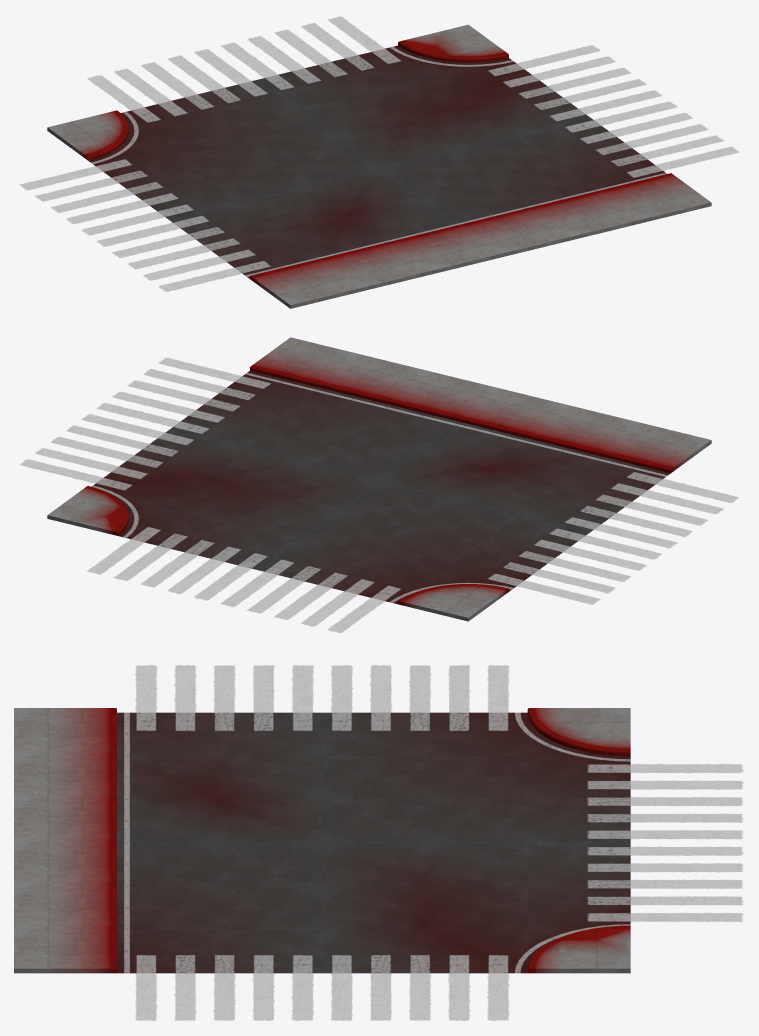
Rendered from street_tintersection.glb.
3 views of the same model, one above another, from view 1: azimuth 30°, elevation 25°; view 2: azimuth 150°, elevation 25°; view 3: azimuth 270°, elevation 25° (orthographic). The views are drawn at different scales.
Parts seen in each view (by area): view 1: Street_TIntersection; view 2: Street_TIntersection; view 3: Street_TIntersection.
Part boxes in pixels (box(x1,y1,x2,y2)): Street_TIntersection: box(20, 16, 738, 308); Street_TIntersection: box(20, 337, 738, 632); Street_TIntersection: box(14, 665, 742, 1020).
Size of the model in its own units: 24.67 by 0.15 by 21.33.
Materials: 3 (3 with a texture image).
